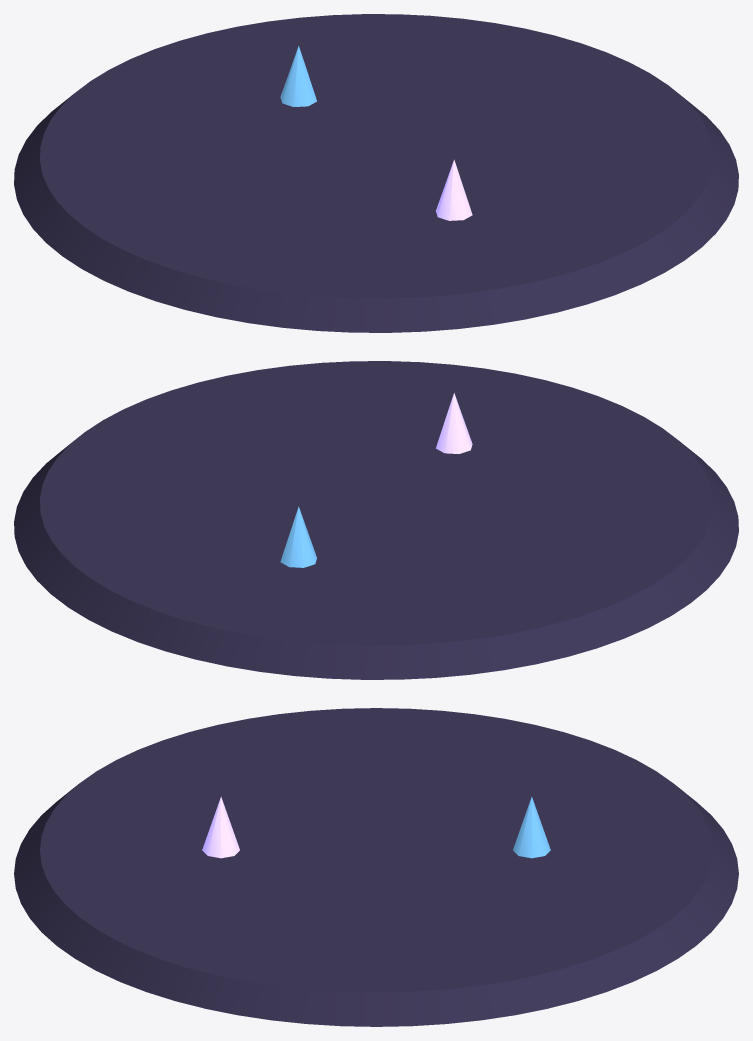
File: aetherion-under.glb
3 renders of one model, top to bottom at view 1: azimuth 30°, elevation 25°; view 2: azimuth 150°, elevation 25°; view 3: azimuth 270°, elevation 25°, orthographic.
Visible parts, largest first — view 1: ground, crystal-vault-landmark, umbral-sea-landmark; view 2: ground, umbral-sea-landmark, crystal-vault-landmark; view 3: ground, umbral-sea-landmark, crystal-vault-landmark.
Part boxes in pixels (<box>): ground: <box>14,14,738,332</box>; crystal-vault-landmark: <box>436,159,472,220</box>; umbral-sea-landmark: <box>280,46,316,106</box>; ground: <box>14,361,738,679</box>; umbral-sea-landmark: <box>280,506,316,567</box>; crystal-vault-landmark: <box>436,393,472,453</box>; ground: <box>14,708,738,1026</box>; umbral-sea-landmark: <box>513,796,550,858</box>; crystal-vault-landmark: <box>202,796,239,858</box>.
Bounding box in the file's own units: 56 × 6.6 × 56.
